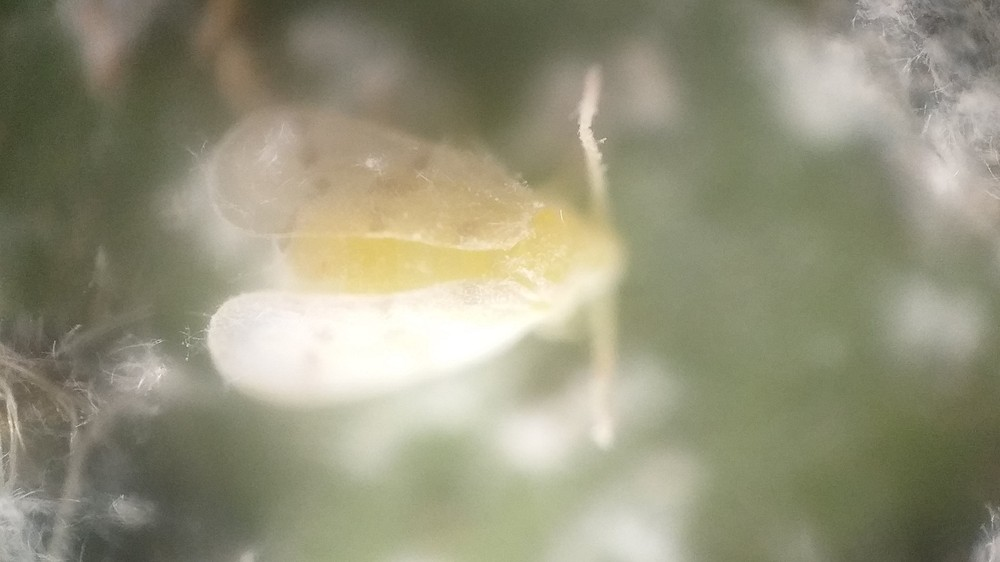Mosca Blanca: (185, 64, 669, 482)
